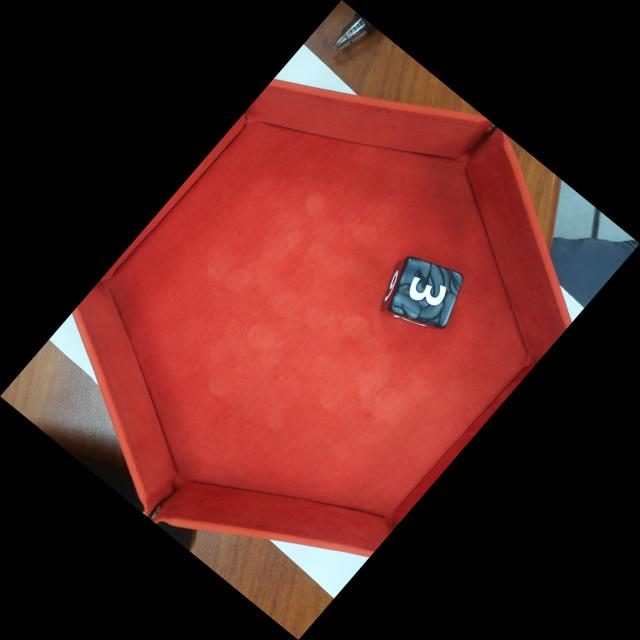dice: (386, 254, 466, 331)
